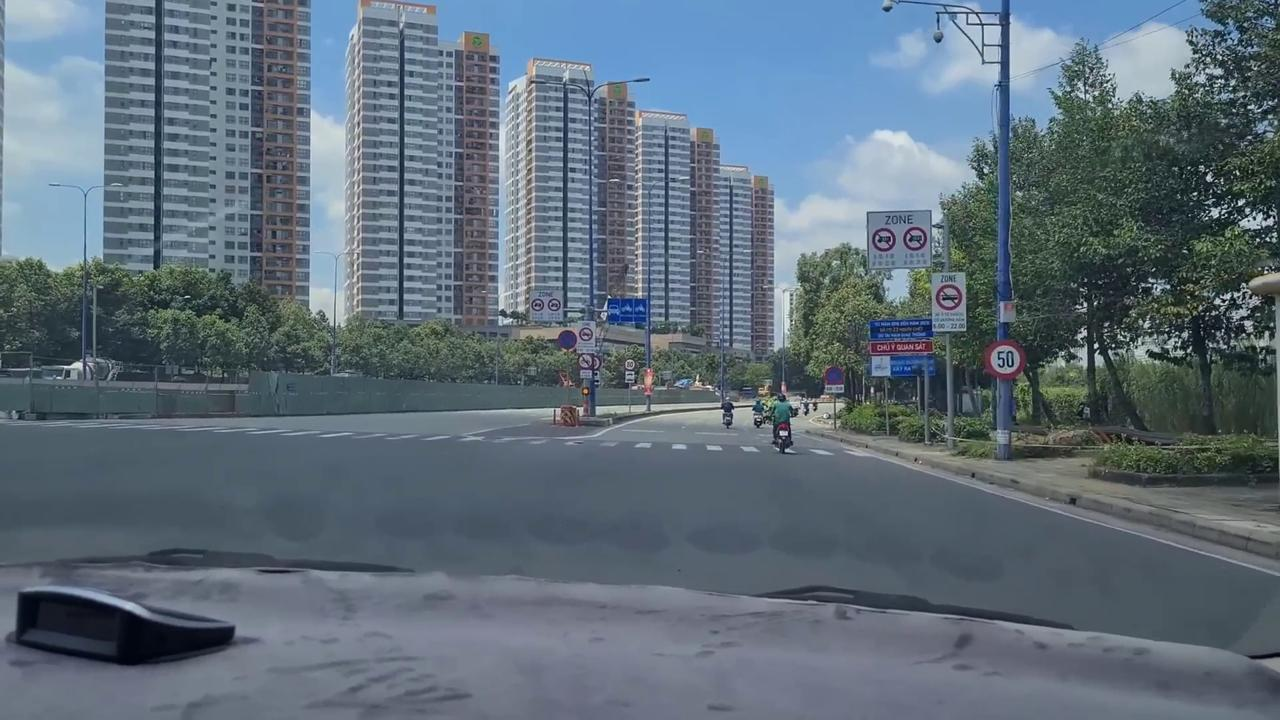Biển phụ: (624, 371, 636, 384)
Cấm cac phương tiện hoạt động trong khung giờ cố định: (865, 209, 935, 270), (930, 271, 968, 333), (527, 288, 565, 322), (577, 319, 596, 353)
Cấm dừng - Cấm đỗ: (557, 326, 578, 352), (823, 365, 844, 386)
Cấm xe máy: (578, 353, 595, 370)
Giới hạn tốc độ 50Km/h: (984, 339, 1027, 379)
Giới hạn tốc độ 80Km/h: (623, 356, 637, 371)
Khác: (868, 318, 936, 376)
Làn đường cho từng xe: (606, 297, 650, 326)
